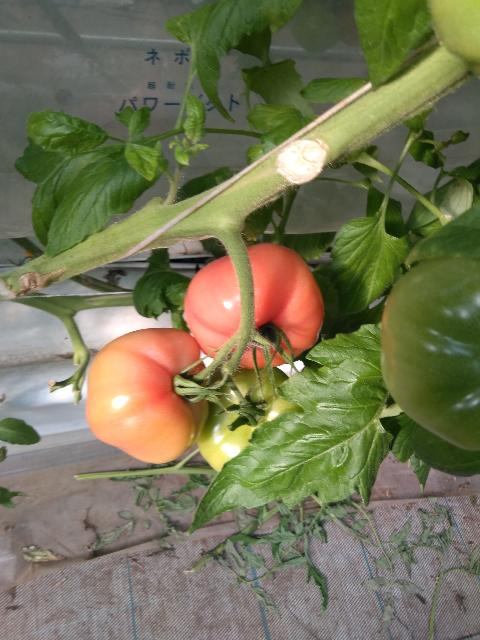b_green: (379, 256, 480, 452), (195, 363, 304, 473), (429, 0, 479, 78)
b_half_ripened: (183, 243, 325, 369), (86, 327, 208, 465)
